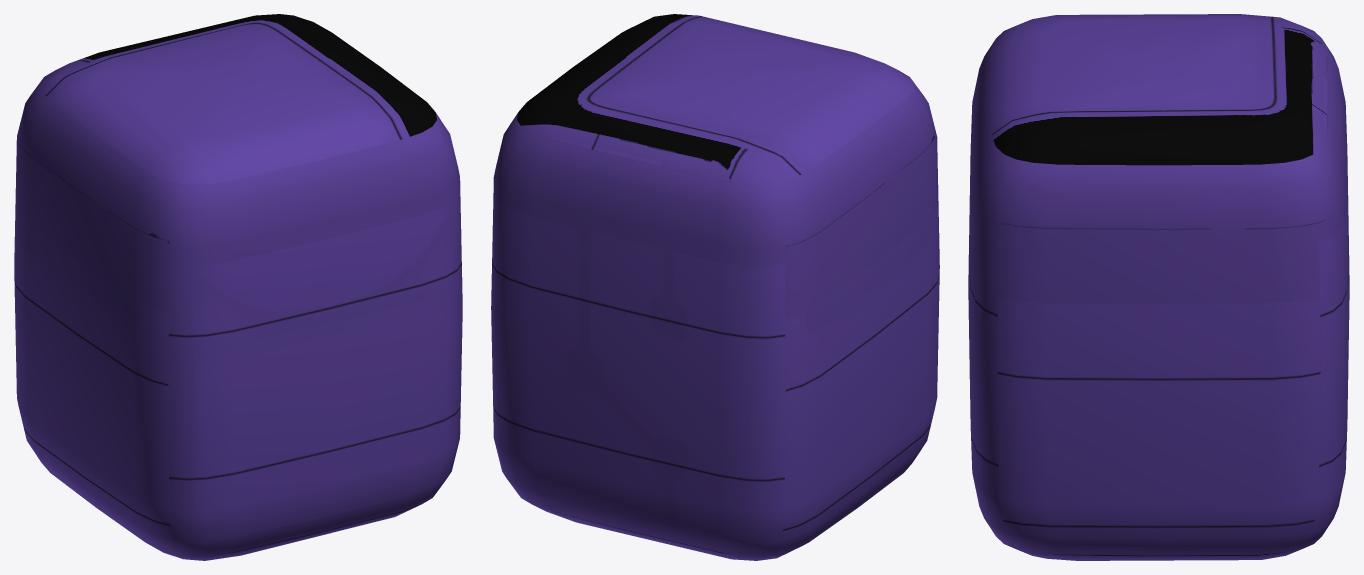
The model's file is Estela_PiernaIzq.fbx.
3 renders of one model, left to right at view 1: azimuth 30°, elevation 25°; view 2: azimuth 150°, elevation 25°; view 3: azimuth 270°, elevation 25°, orthographic. The views are drawn at different scales.
Visible parts, largest first — view 1: Estela_PiernaIzq; view 2: Estela_PiernaIzq; view 3: Estela_PiernaIzq.
Boxes of the visible parts, x1,y1,x2,y2 form: Estela_PiernaIzq: (14, 14, 462, 560); Estela_PiernaIzq: (491, 14, 939, 560); Estela_PiernaIzq: (968, 14, 1349, 560).
Size of the model in its own units: 1.06 by 1.33 by 1.04.
